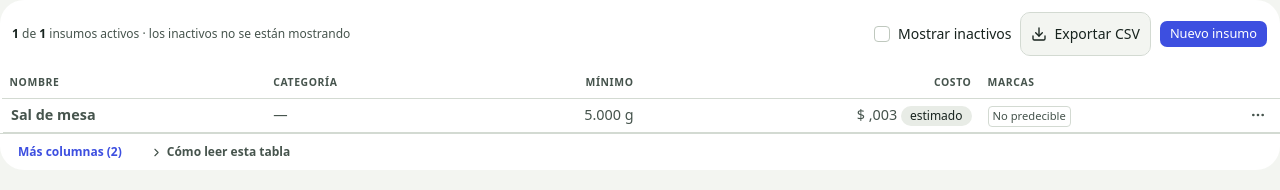
Test: IngredientsTab — las acciones de la fila, en el menú «⋯» (mapa de pantallas, regla 3) › un insumo inactivo no ofrece «Desactivar»
Expected: the text "Sal de mesa" is shown, [2,98,265,132]
Step 1. Click the button named "Acciones de Sal de mesa" → x=1258, y=115, box [1244,101,1272,129]
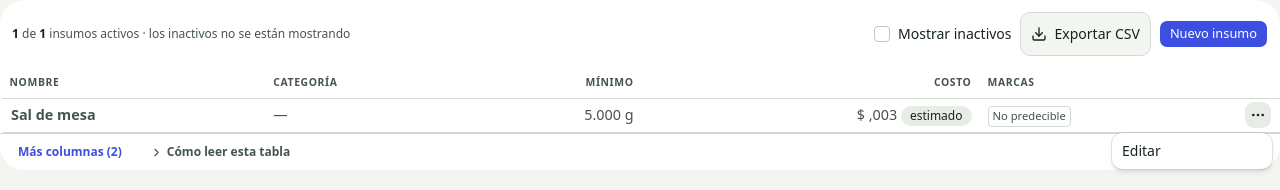
Expected: the menu item "Editar" is shown, [1122,141,1161,160]
